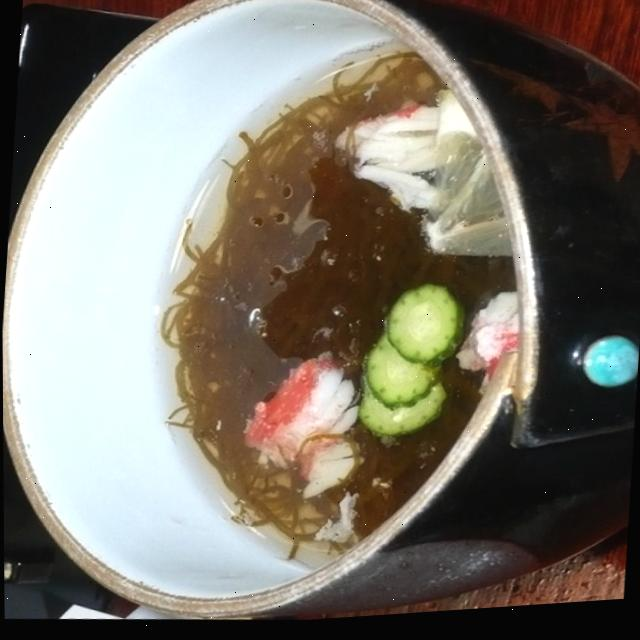蔬菜料理: (0, 0, 599, 640)
